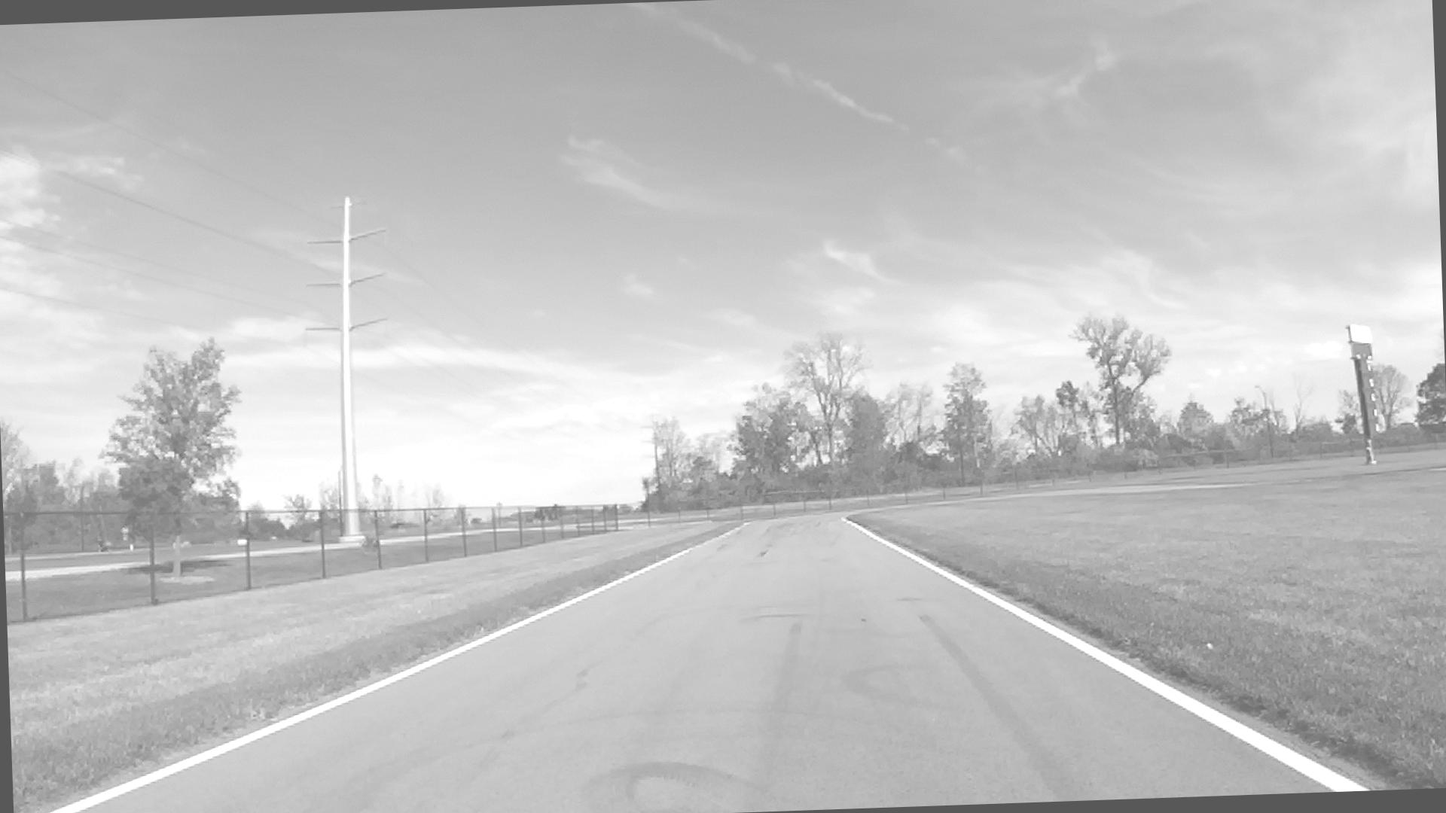white-line: (46, 527, 741, 813), (842, 518, 1375, 792)
